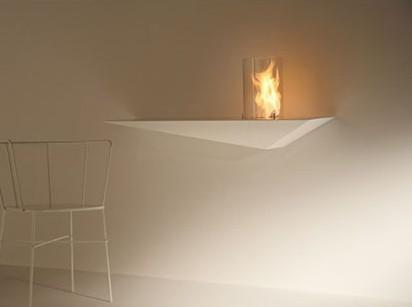fire: (247, 53, 282, 118)
